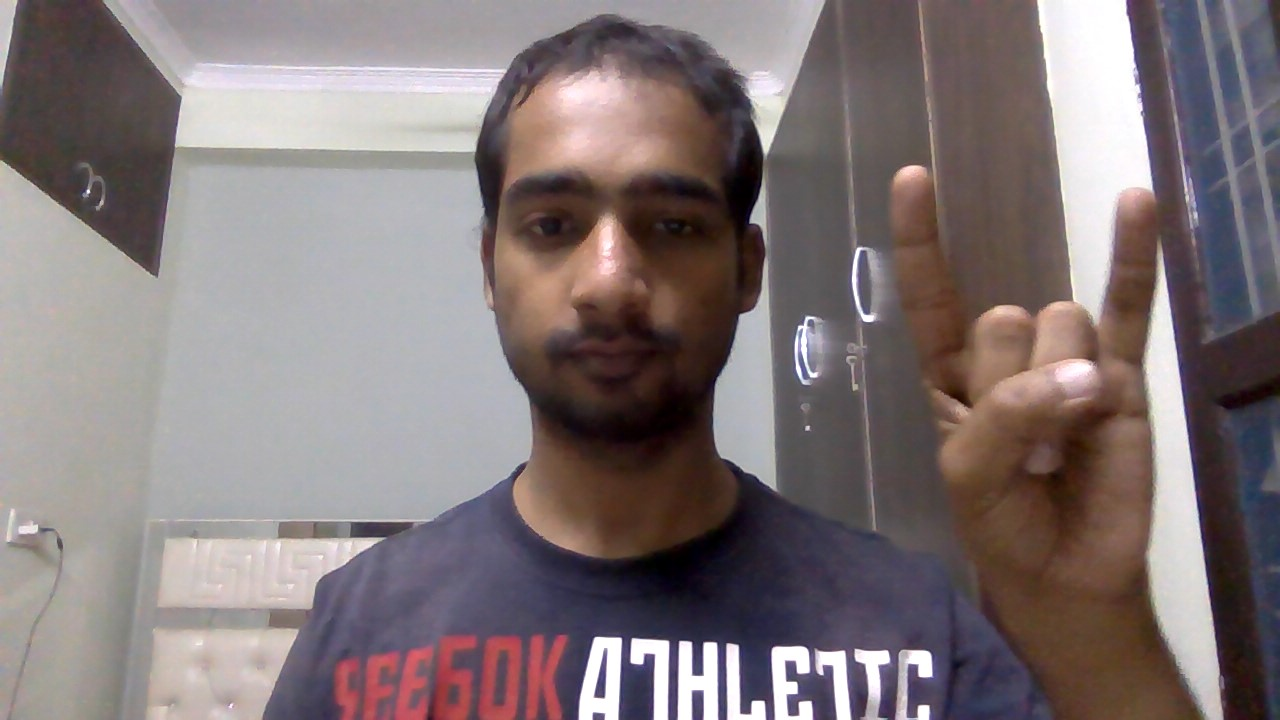Select All: (878, 150, 1183, 605)
